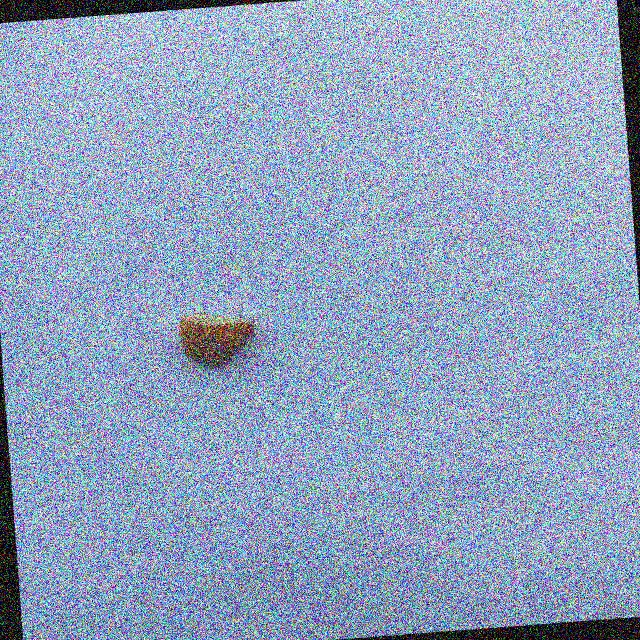grade4: (171, 304, 266, 373)
